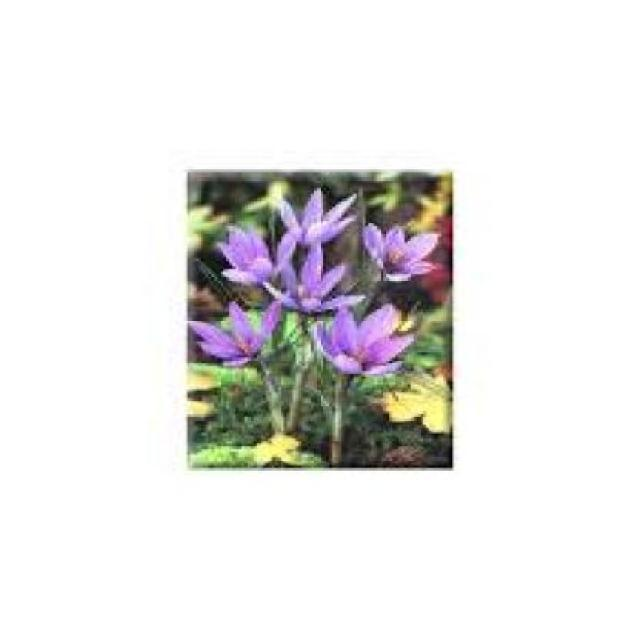saffron open: (315, 305, 412, 374), (190, 301, 277, 364), (280, 189, 356, 245), (364, 224, 438, 280), (219, 228, 272, 286)
